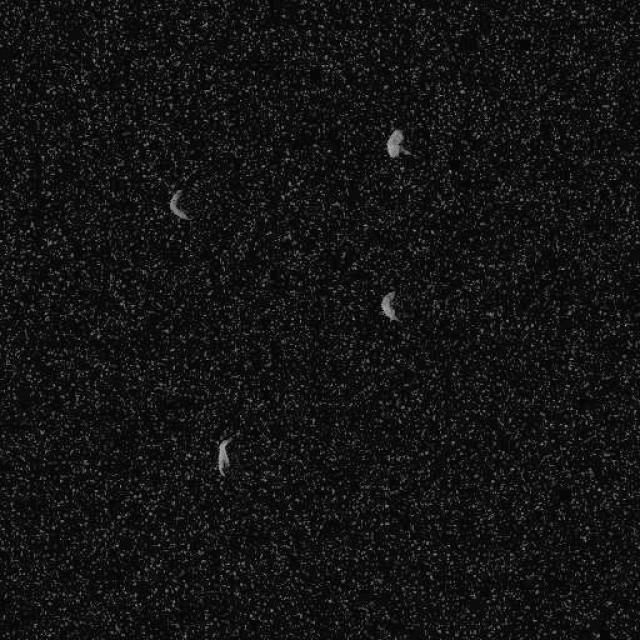D2: (168, 188, 192, 222), (379, 288, 401, 324), (385, 128, 409, 158), (215, 436, 231, 476)
